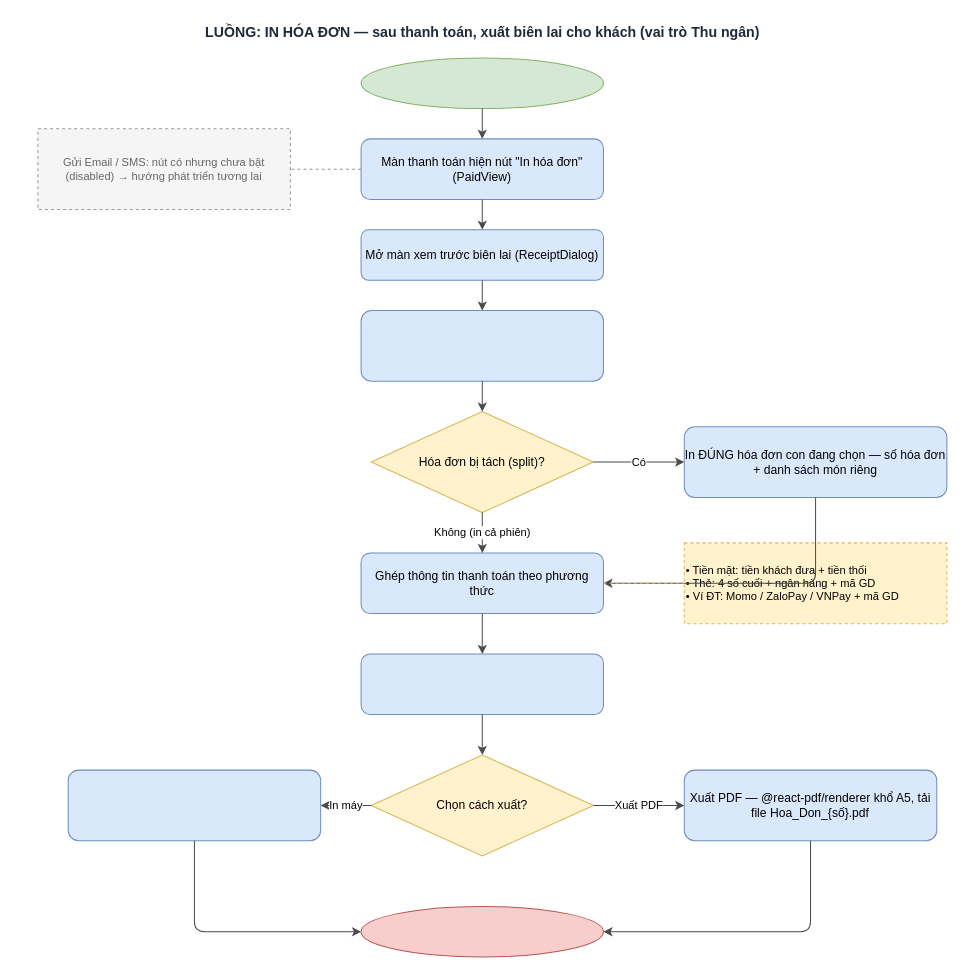
Image size: 965x975. Some labels were removed from this diagram. Each missing label, with the centre of its shape:
Bắt đầu — hóa đơn đã thanh toán đủ (PAID): (481,83)
Dựng biên lai từ SNAPSHOT (tên + giá món lúc đặt), không theo giá menu hiện tại: (481,345)
In máy in — window.print(), biên lai khổ nhiệt (bản in trên màn): (194,805)
Kết thúc — đưa biên lai cho khách: (481,931)
Thêm dòng tùy chọn nếu > 0: phí phục vụ · VAT · giảm giá: (481,684)
